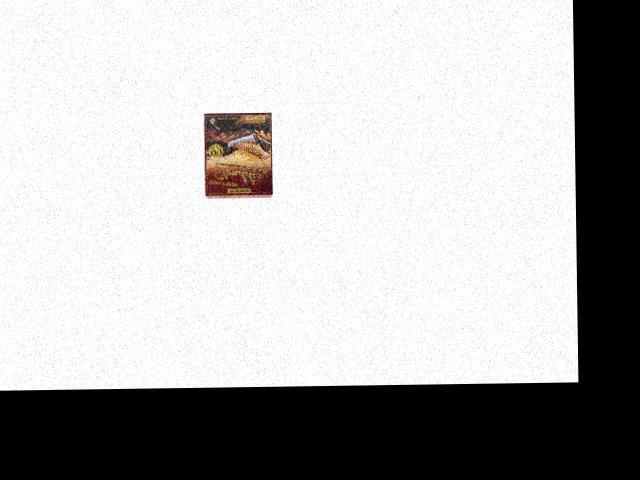chocolate: (203, 112, 272, 198)
